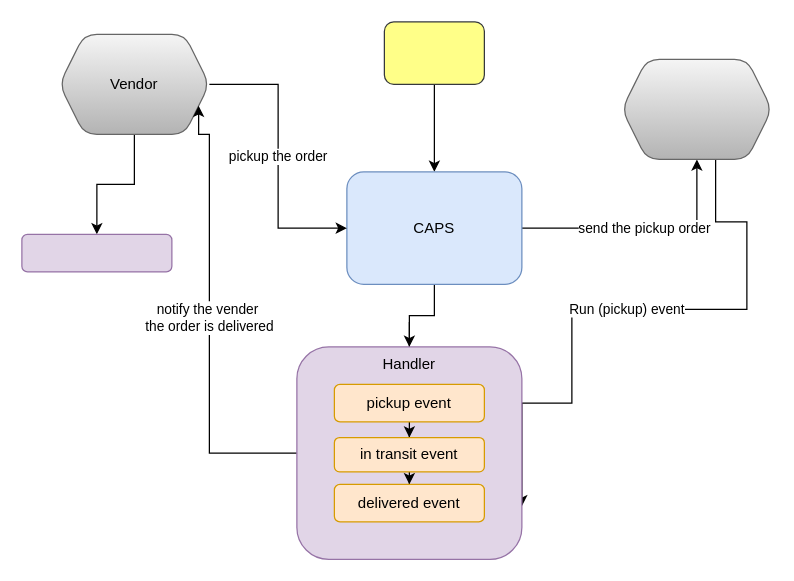
This 794x581 diagram has some shape labels left out. Each missing label, with the centre of its shape:
"Driver" belongs at [696,108].
"Run caps" belongs at [433,52].
"Thanking event" belongs at [96,252].
